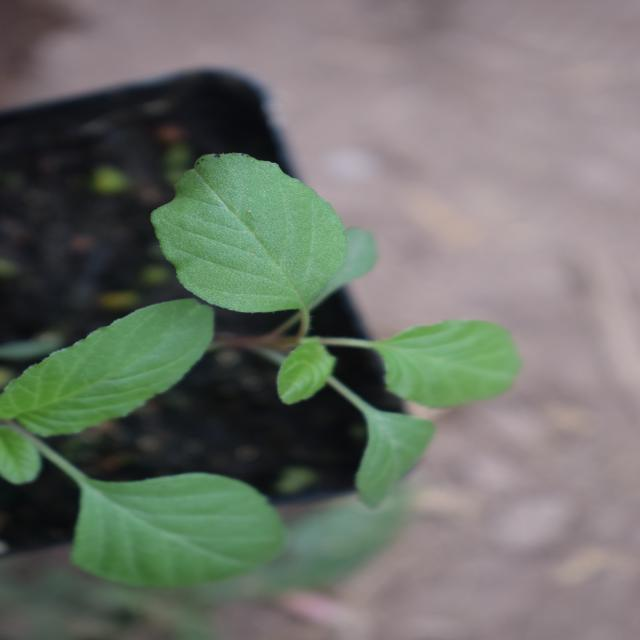pigweed: (147, 129, 513, 509)
